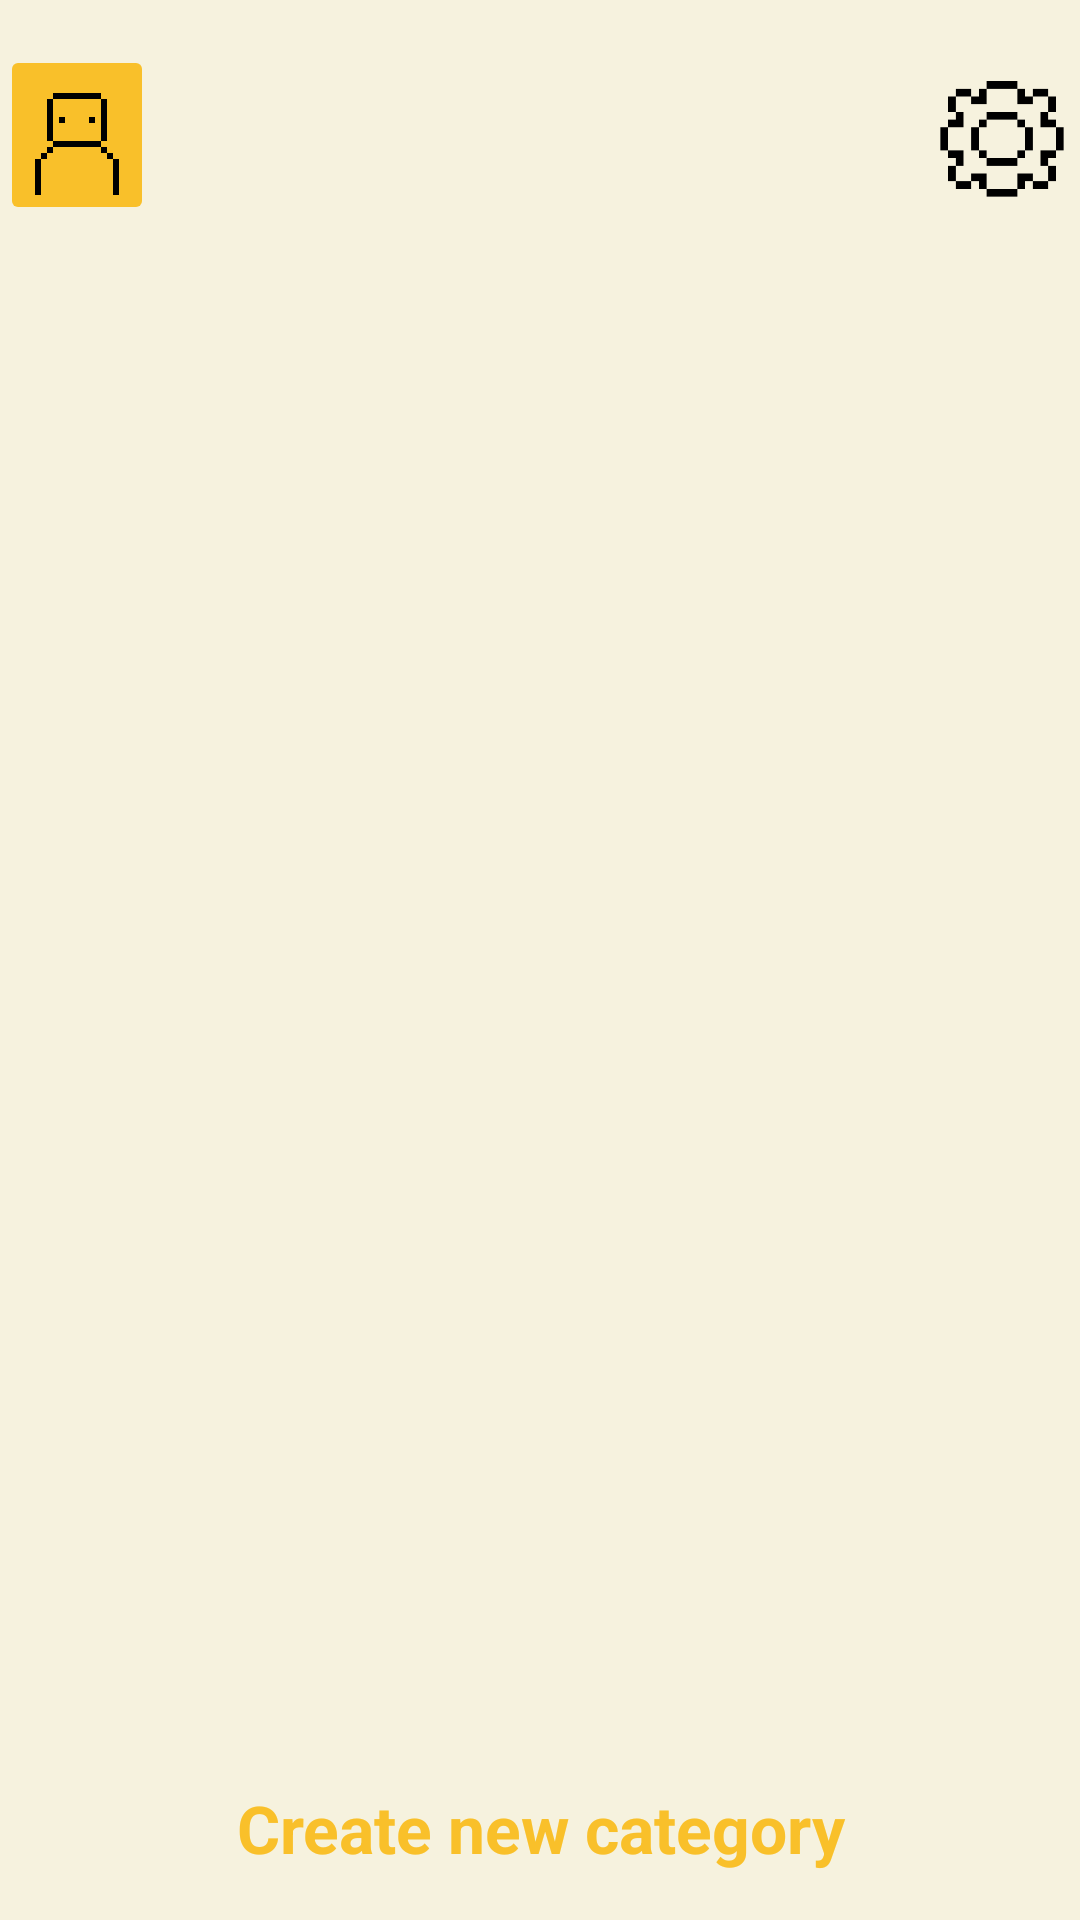

Icon click points for this 1080 × 1920 phone screenshot, format (x,y):
cogicon: (1002,139)
profileicon: (77,135)
